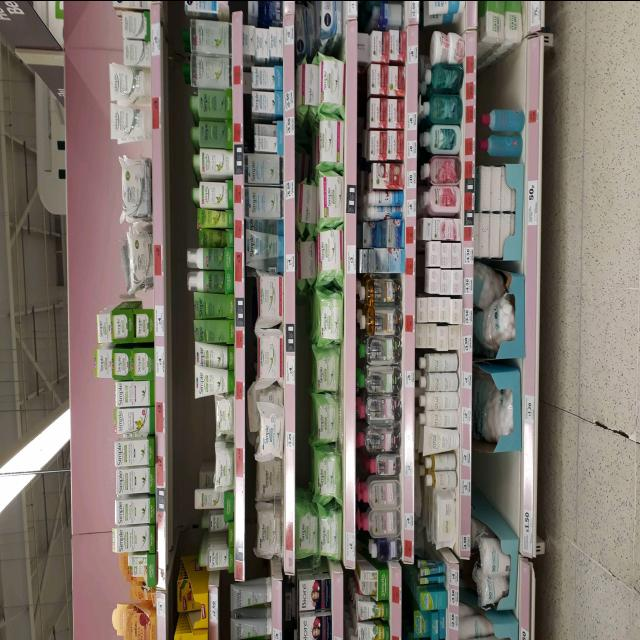empty_space: (481, 54, 525, 107), (475, 453, 521, 502), (124, 142, 149, 158)
